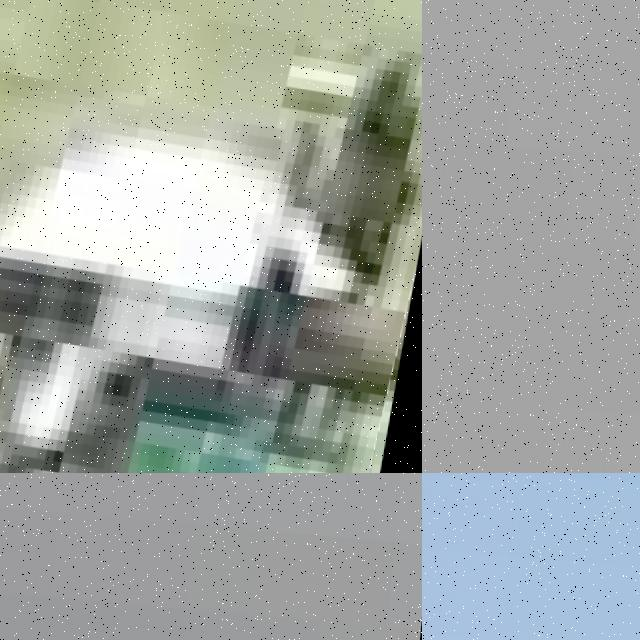drone: (0, 0, 422, 473)
